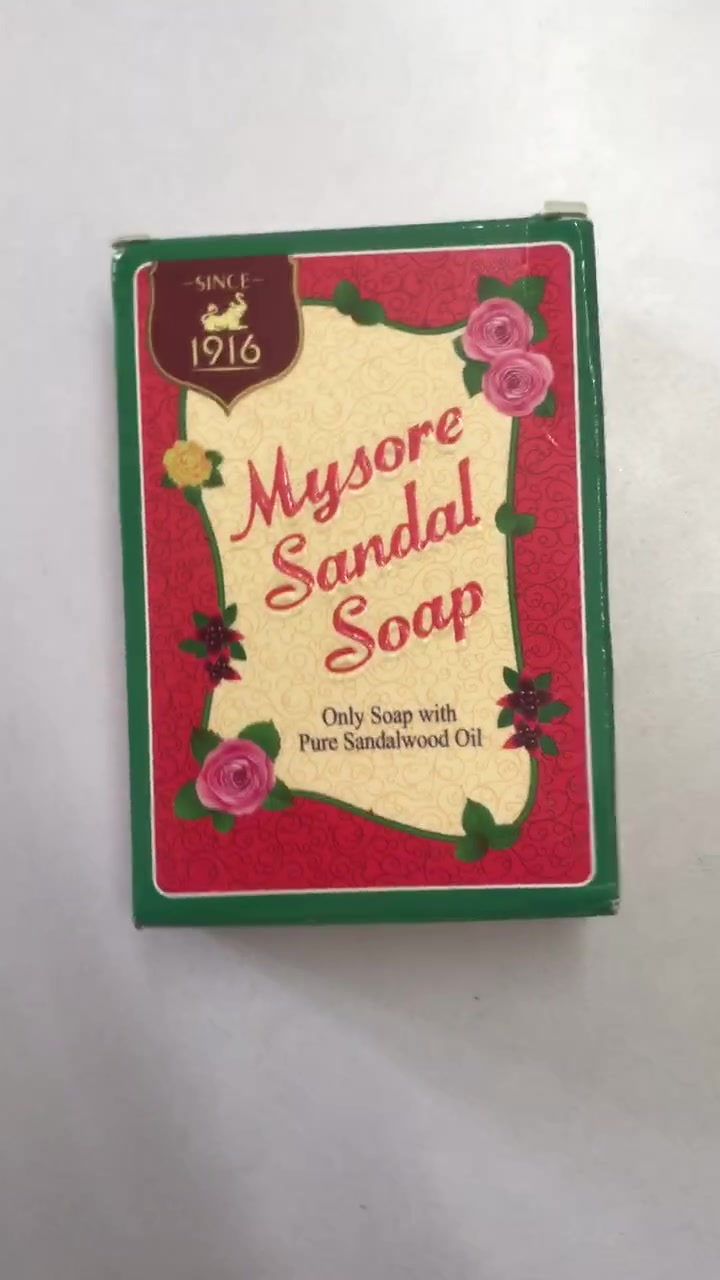mysore sandal soap: (110, 207, 613, 923)
